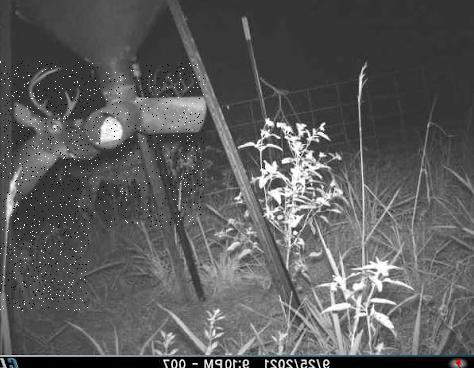Deer: (59, 63, 204, 227), (0, 61, 89, 311)
